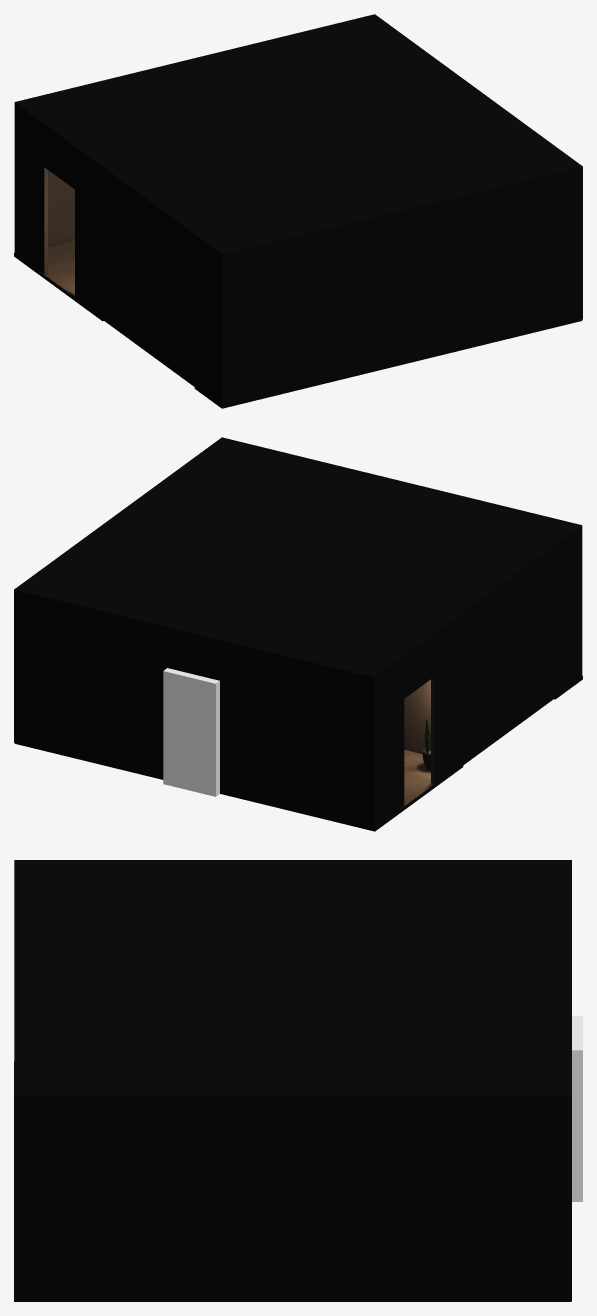
The model's file is room_3wcorridor_engine.obj.
3 renders of one model, top to bottom at view 1: azimuth 30°, elevation 25°; view 2: azimuth 150°, elevation 25°; view 3: azimuth 270°, elevation 25°, orthographic. The views are drawn at different scales.
Visible parts, largest first — view 1: Rectangle032, celling_3W, Rectangle034; view 2: Rectangle032, celling_3W, PH_DOOR_305W, Rectangle034; view 3: celling_3W, Rectangle032, PH_DOOR_305W, Rectangle034.
Boxes of the visible parts, <box> form: Rectangle032: <box>14,105,582,404</box>; celling_3W: <box>14,14,582,257</box>; Rectangle034: <box>14,240,582,408</box>; Rectangle032: <box>14,528,582,830</box>; celling_3W: <box>14,437,582,680</box>; PH_DOOR_305W: <box>163,668,219,796</box>; Rectangle034: <box>14,675,582,831</box>; celling_3W: <box>14,860,571,1100</box>; Rectangle032: <box>14,1099,571,1300</box>; PH_DOOR_305W: <box>572,1016,582,1201</box>; Rectangle034: <box>14,1061,571,1301</box>.
Size of the model in its own units: 100 by 41.87 by 102.
